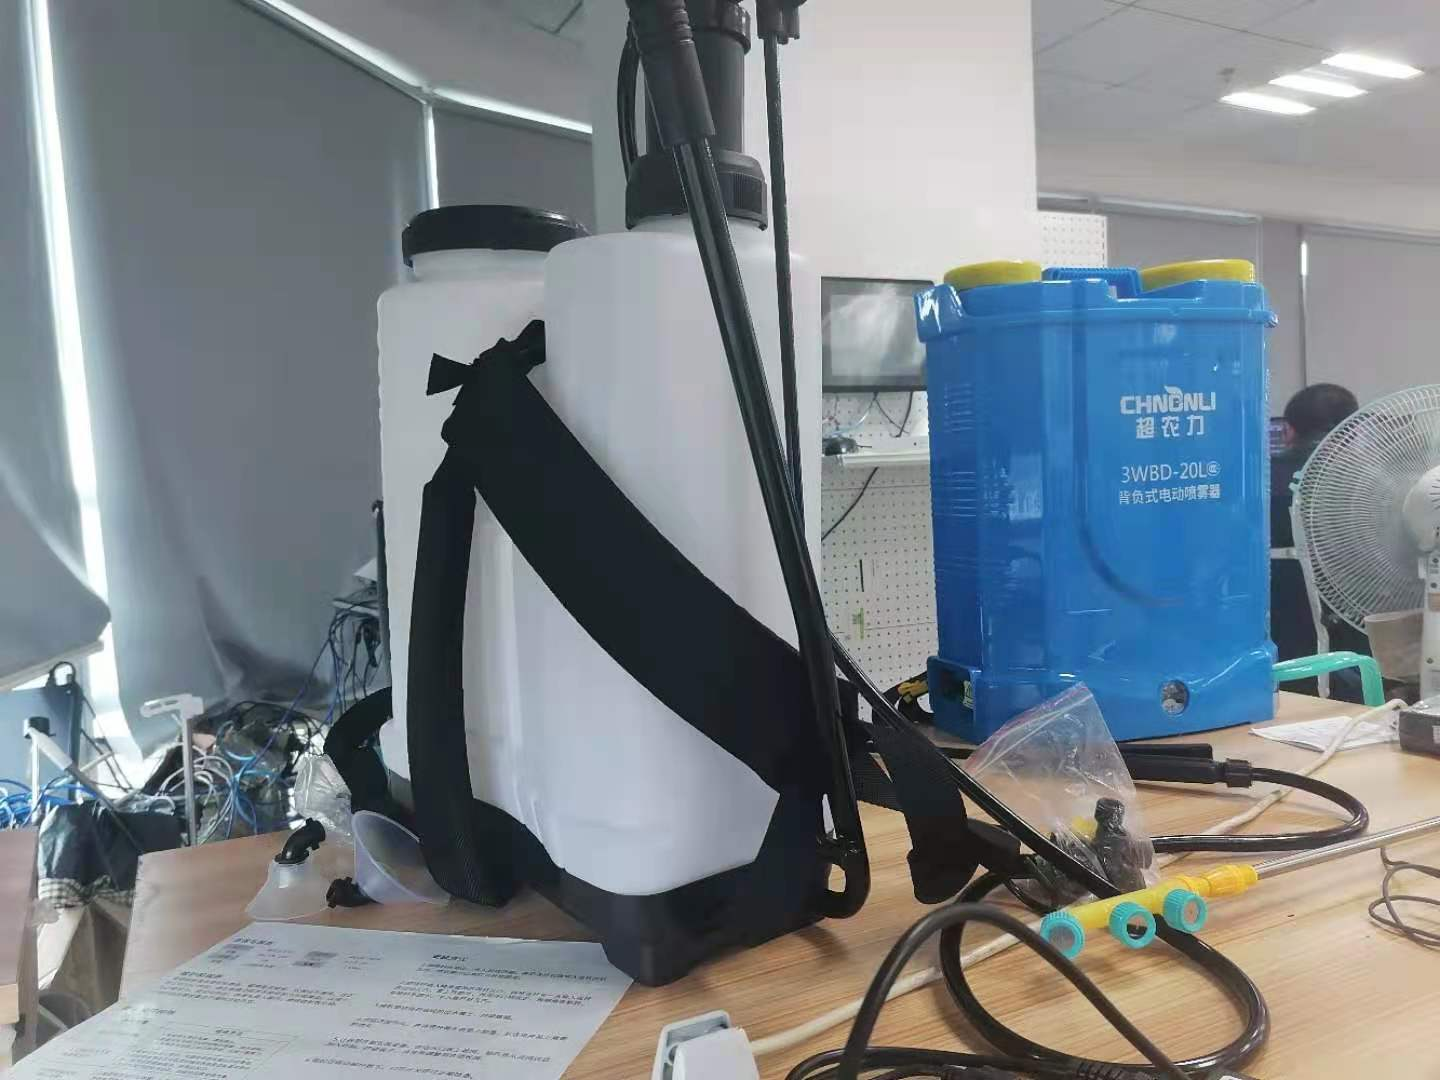berrl: (373, 197, 854, 952), (910, 256, 1289, 739)
